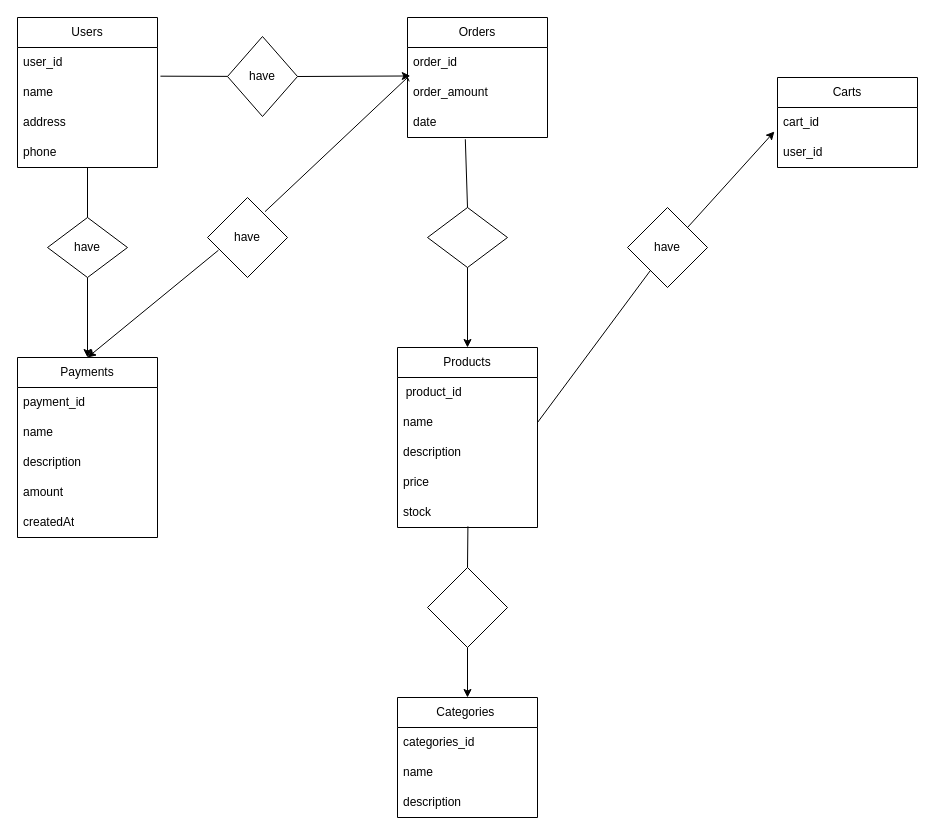
Some shapes in this 935 by 835 pixel diagram are drawn without their labels. The centre of each missing label's shape, as x and y in pixels:
belongs: [467,607]
contains: [467,237]
